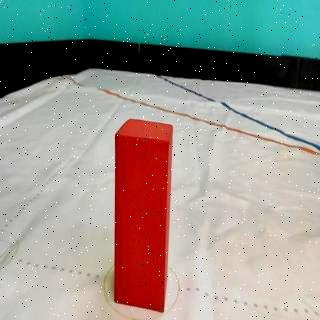redbox: (115, 117, 173, 312)
